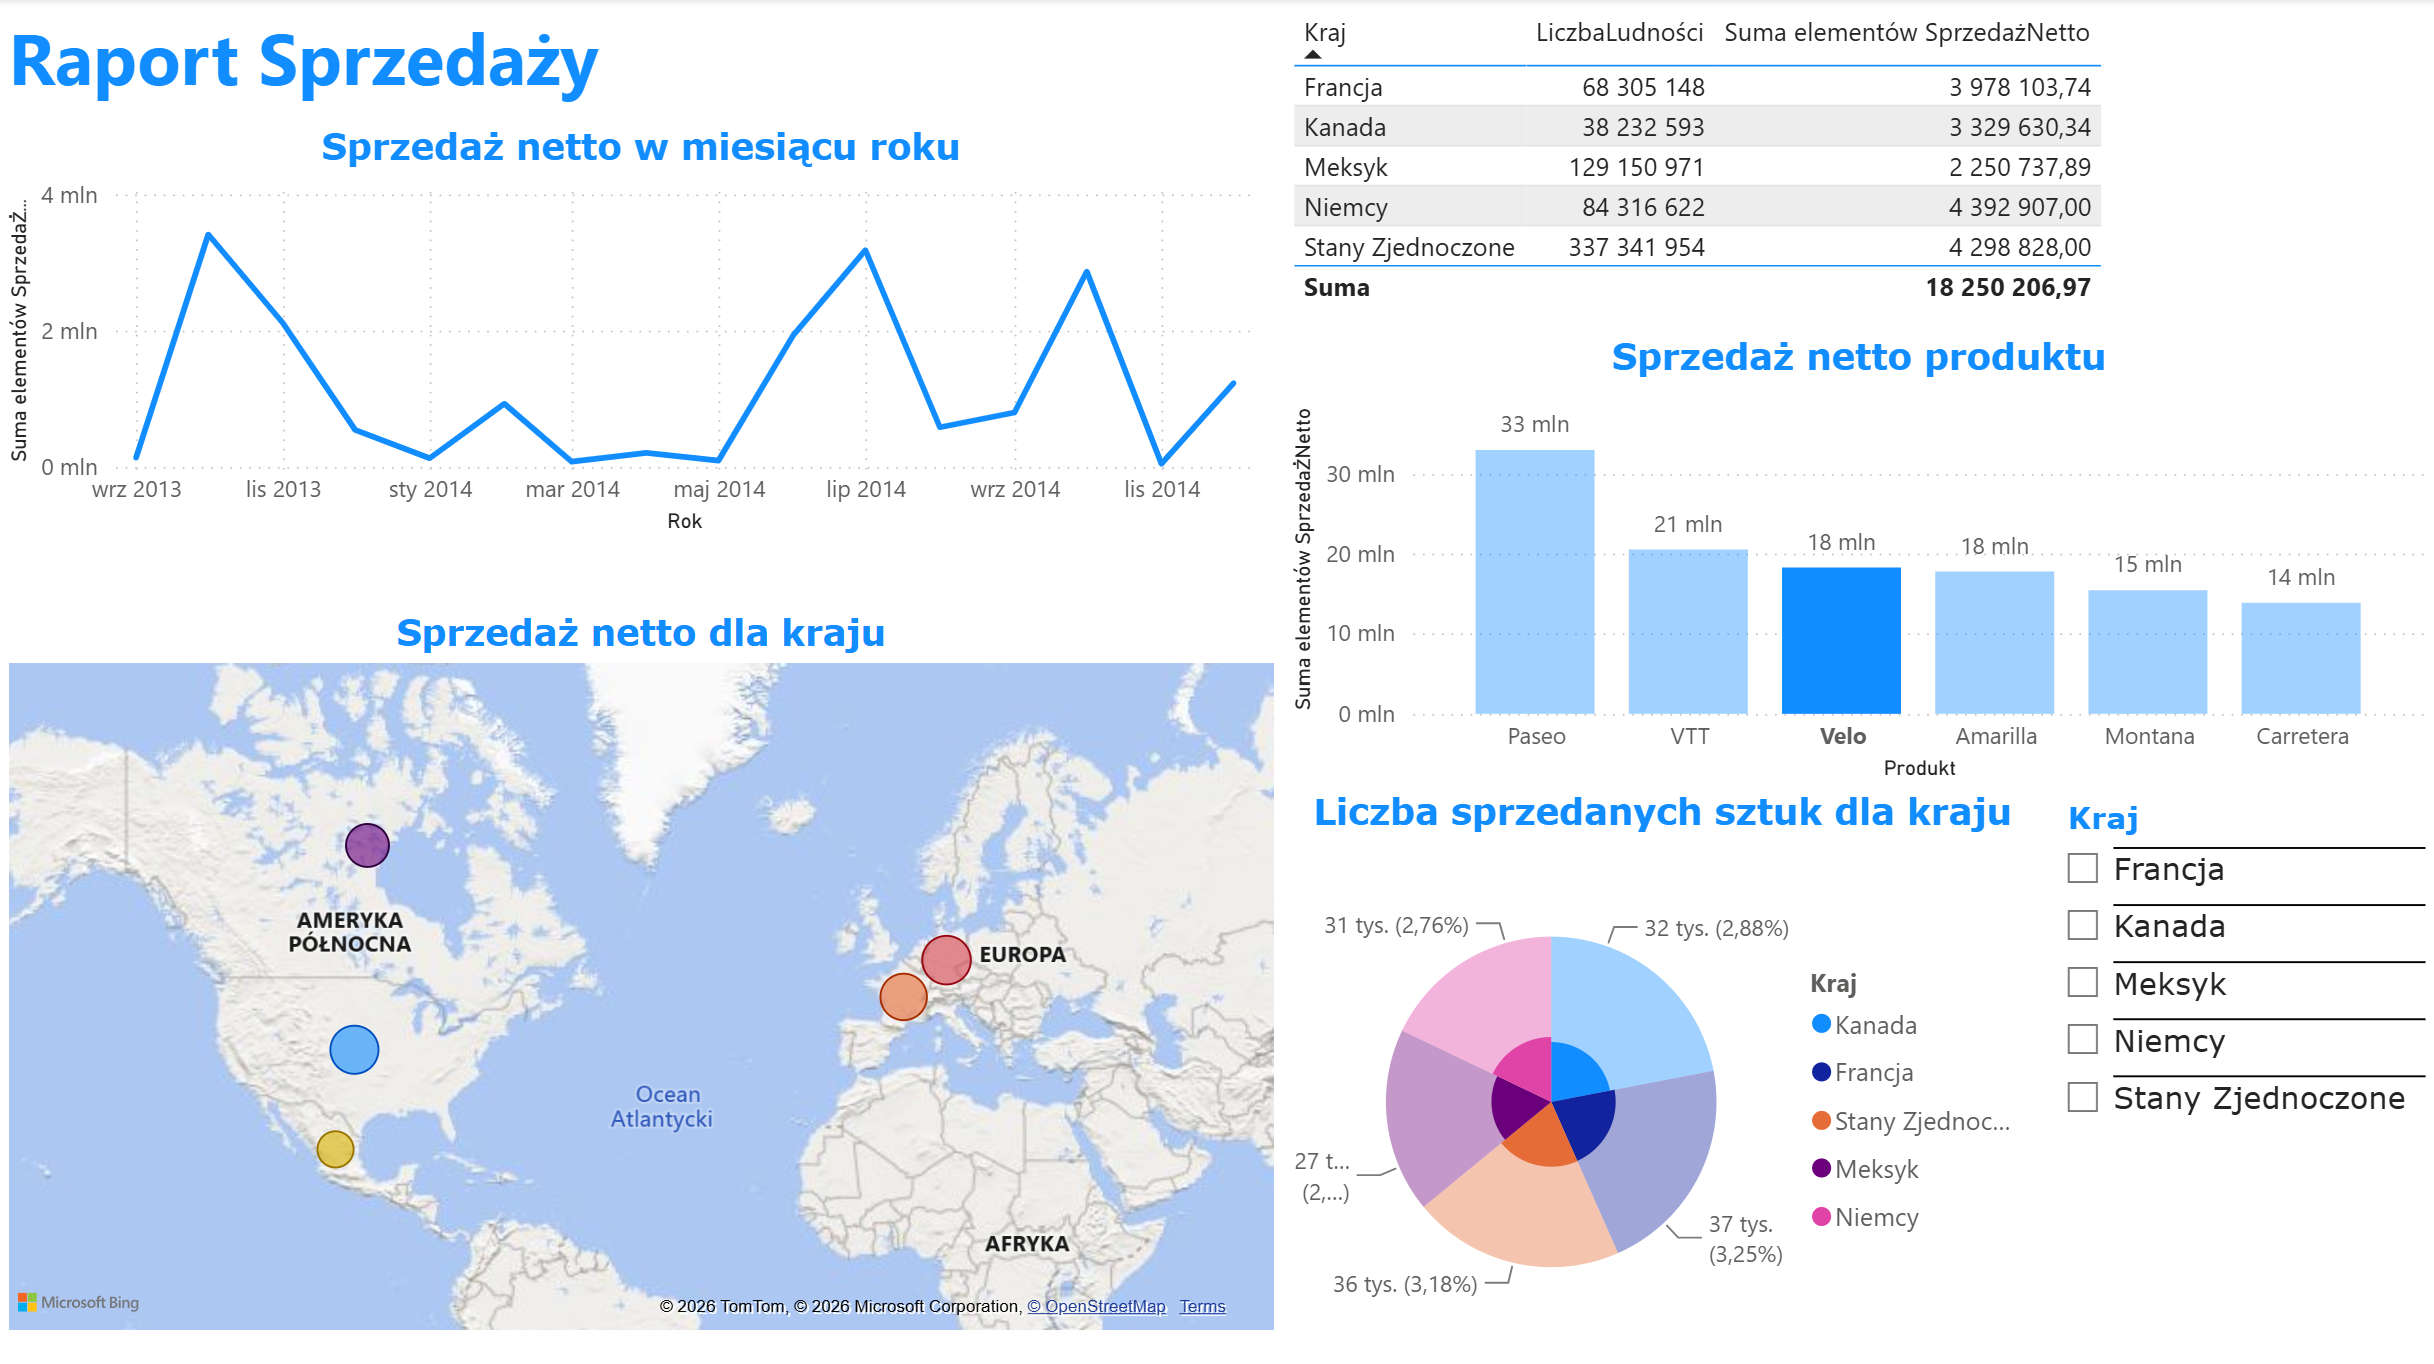

What the dashboard file says about the page in this screenshot:
{"tool":"powerbi","page":{"name":"Strona 1","canvas":[1280,720],"ordinal":0},"visuals":[{"type":"textbox","box":[0,0,374.6,65.9],"z":0},{"type":"lineChart","title":"Sprzedaż netto w miesiącu roku","fields":{"Y":["Sum(sprzedaż.SprzedażNetto)"],"Category":["sprzedaż.Data.Odmiana.Hierarchia dat.Rok","sprzedaż.Data.Odmiana.Hierarchia dat.Kwartał","sprzedaż.Data.Odmiana.Hierarchia dat.Miesiąc","sprzedaż.Data.Odmiana.Hierarchia dat.Dzień"]},"box":[0,66.2,674.8,219.2],"z":1000},{"type":"map","title":"Sprzedaż netto dla kraju","fields":{"Category":["sprzedaż.Kraj"],"Size":["Sum(sprzedaż.SprzedażNetto)"]},"box":[0,321.7,674.8,383.2],"z":2000},{"type":"tableEx","fields":{"Values":["sprzedaż.Kraj","sprzedaż.LiczbaLudności","Sum(sprzedaż.SprzedażNetto)"]},"box":[674.8,1.6,529.8,175],"z":3000},{"type":"columnChart","title":"Sprzedaż netto produktu","fields":{"Category":["sprzedaż.Produkt"],"Y":["Sum(sprzedaż.SprzedażNetto)"]},"box":[674.8,176.6,605.5,238.1],"z":4000},{"type":"pieChart","title":"Liczba sprzedanych sztuk dla kraju","fields":{"Category":["sprzedaż.Kraj"],"Y":["Sum(sprzedaż.Sprzedane_sztuki)"]},"box":[674.8,414.7,398.9,305.9],"z":5000},{"type":"slicer","fields":{"Values":["sprzedaż.Kraj"]},"box":[1074,415,206,305],"z":6000}]}

Visuals, with their boxes in screenshot pixels (x1, y1, x2, y2), scaled from the page's 1280x720 canvas onto the 2434x1364 screenshot:
textbox: crop(0, 0, 712, 125)
"Sprzedaż netto w miesiącu roku" lineChart: crop(0, 125, 1283, 541)
"Sprzedaż netto dla kraju" map: crop(0, 609, 1283, 1335)
tableEx - sprzedaż.Kraj x sprzedaż.LiczbaLudności: crop(1283, 3, 2291, 335)
"Sprzedaż netto produktu" columnChart: crop(1283, 335, 2433, 786)
"Liczba sprzedanych sztuk dla kraju" pieChart: crop(1283, 786, 2042, 1363)
slicer - sprzedaż.Kraj: crop(2042, 786, 2433, 1363)
